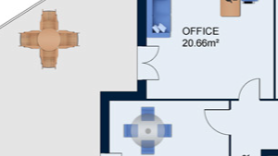door: (200, 106, 240, 142), (234, 74, 267, 103)
double door: (133, 45, 164, 83)
